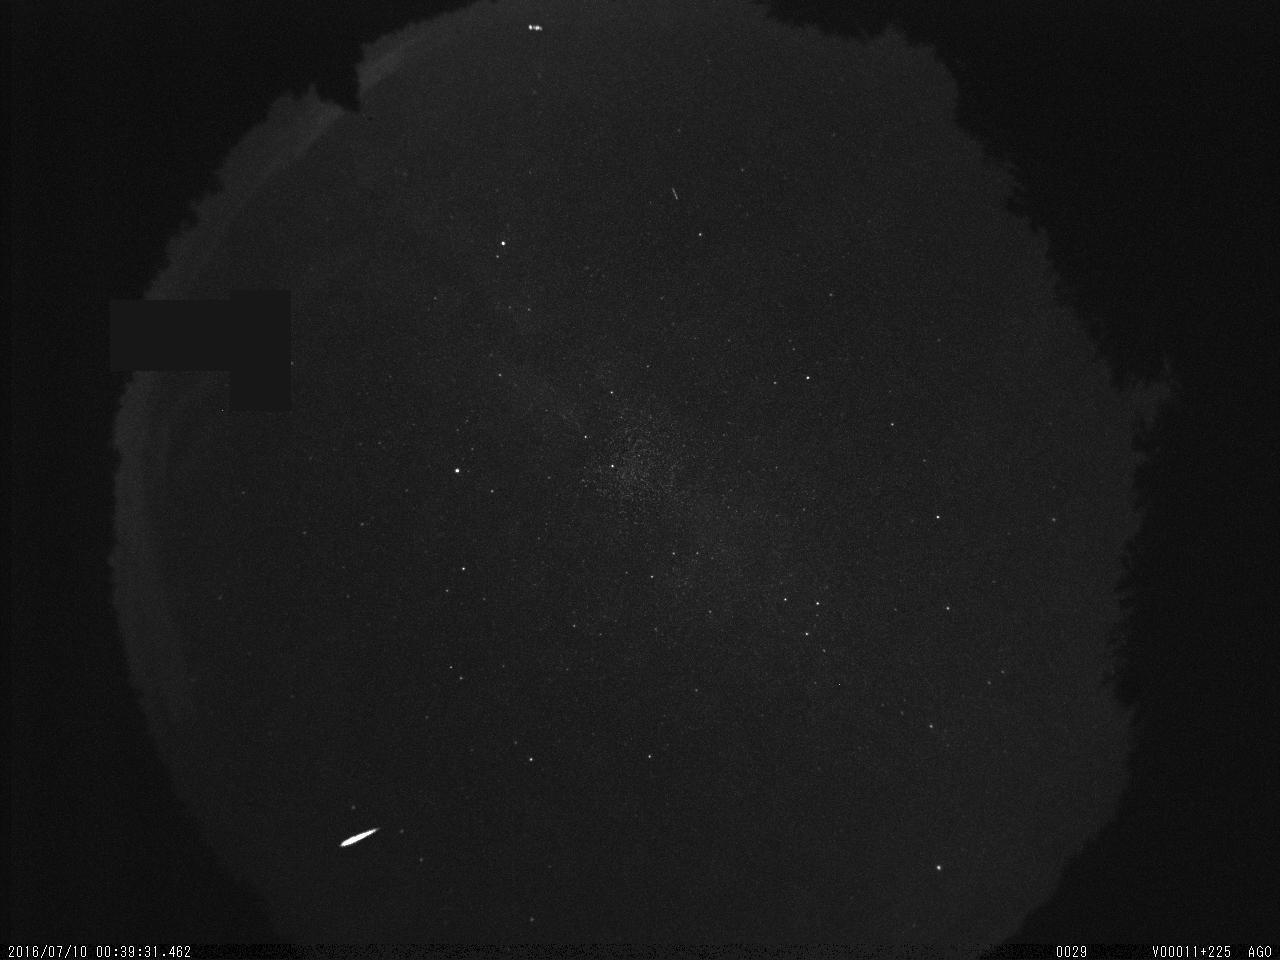Meteor: (340, 824, 380, 847)
